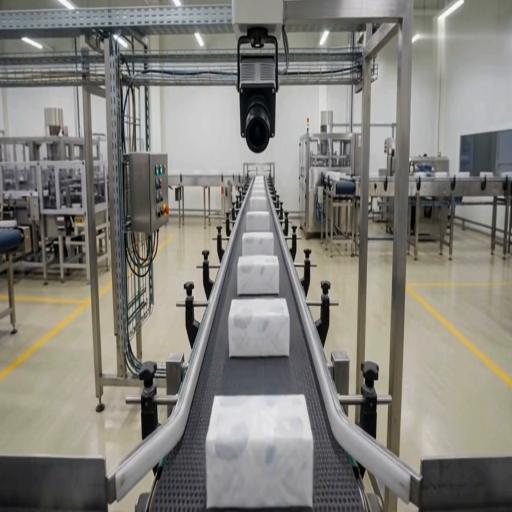good: (206, 393, 312, 509), (228, 298, 290, 358), (236, 254, 280, 296), (241, 231, 275, 257), (244, 210, 272, 232), (247, 193, 269, 212)
